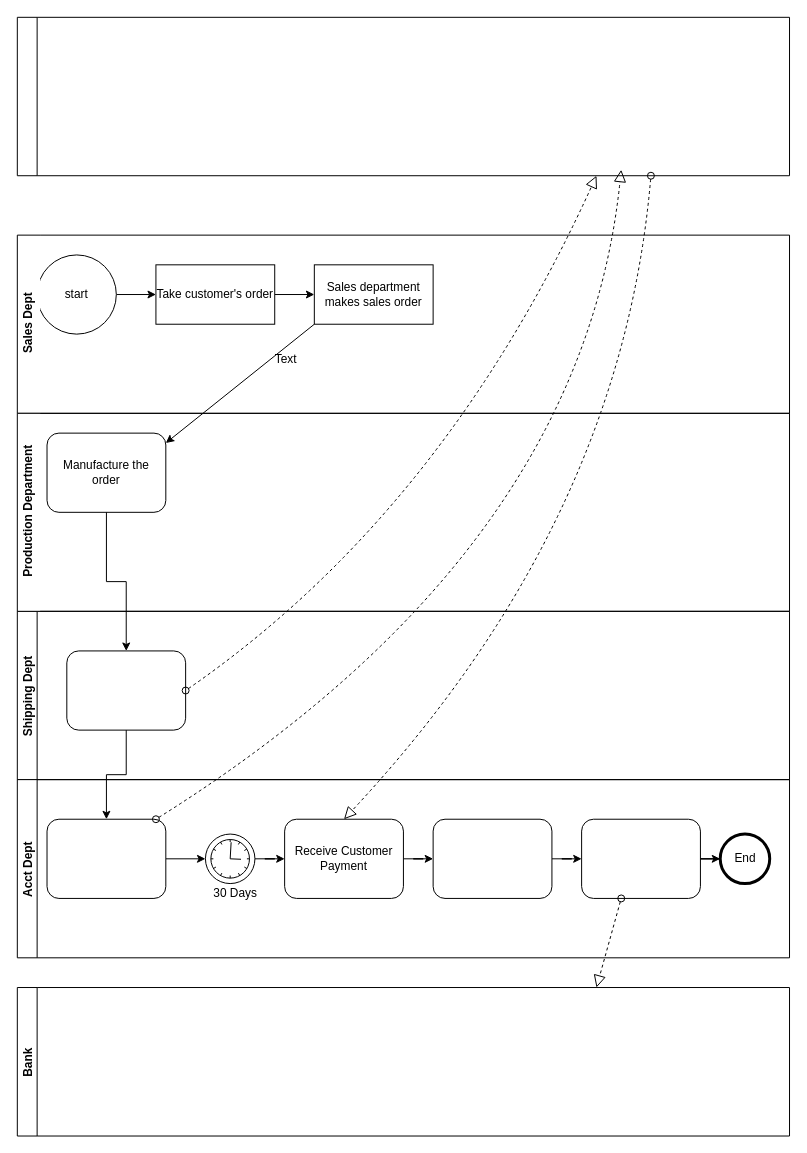
This 807x1153 diagram has some shape labels left out. The shapes that lost their labels are listed below. From the top down, each one's centre as x and y in pixels, then its label:
At (403,96): "Customer".
At (126,690): "Ship to customer".
At (106,858): "Send Customer Invoice".
At (492,858): "Updates Customer Account in GL".
At (640,858): "Deposit PMT in bank".
